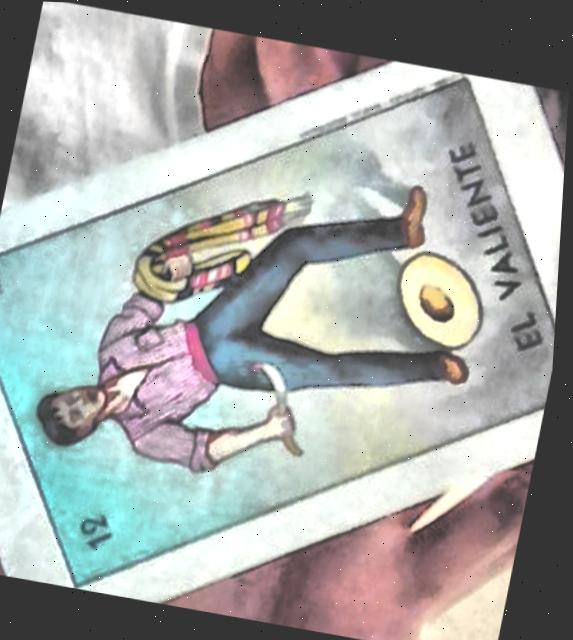El Valiente: (0, 76, 559, 587)
